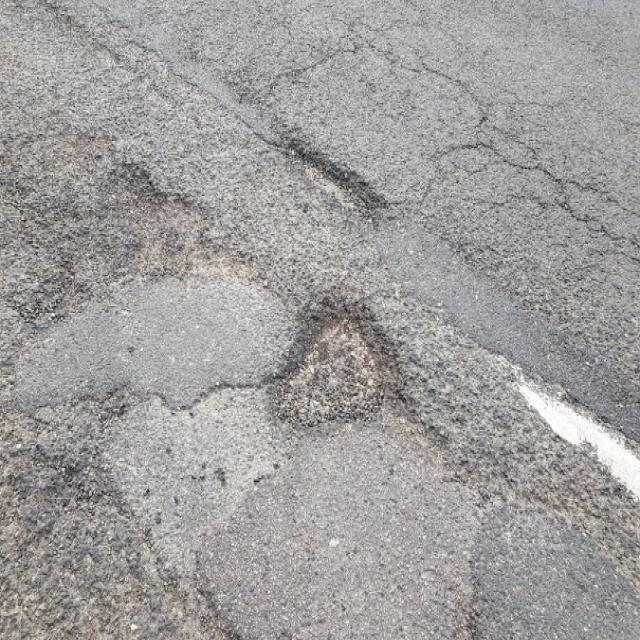pothole: (264, 282, 406, 433), (106, 155, 224, 279), (267, 130, 387, 226)
